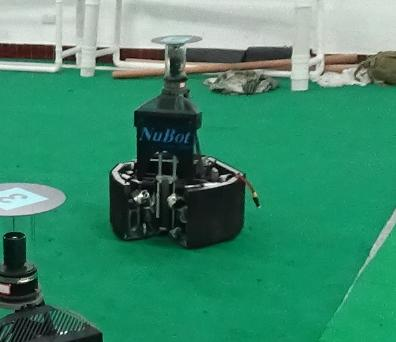robot: (104, 34, 250, 252)
